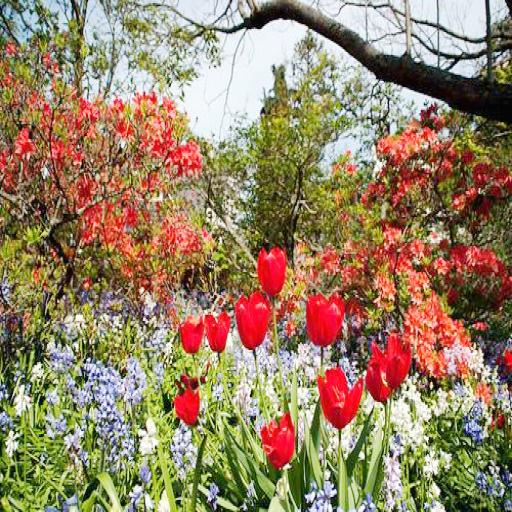tulip: (364, 332, 410, 400), (316, 366, 364, 426), (260, 410, 298, 466), (306, 292, 345, 345), (236, 292, 272, 347), (256, 244, 289, 294), (203, 310, 231, 353), (173, 390, 202, 426), (178, 315, 204, 354)
